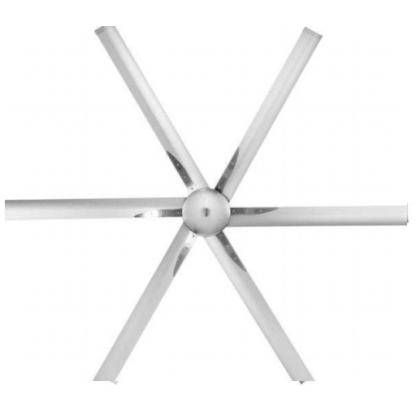ceiling-fan: (5, 26, 408, 382)
